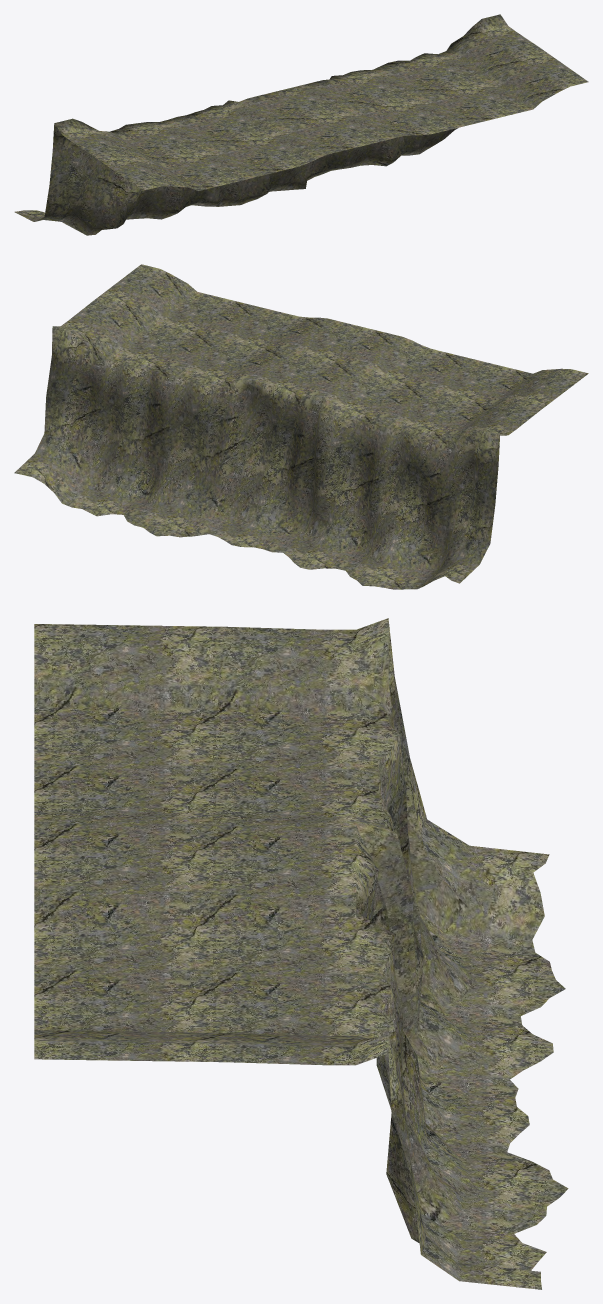
The model's file is waterfall_rock.glb.
3 renders of one model, top to bottom at view 1: azimuth 30°, elevation 25°; view 2: azimuth 150°, elevation 25°; view 3: azimuth 270°, elevation 25°, orthographic. The views are drawn at different scales.
Visible parts, largest first — view 1: waterfall_rock; view 2: waterfall_rock; view 3: waterfall_rock.
Part boxes in pixels (x1,y1,x2,y2): waterfall_rock: (14, 14, 588, 235); waterfall_rock: (14, 264, 588, 589); waterfall_rock: (34, 618, 568, 1289).
Size of the model in its own units: 32 by 9.6 by 16.59.
1 material, 1 textured.
